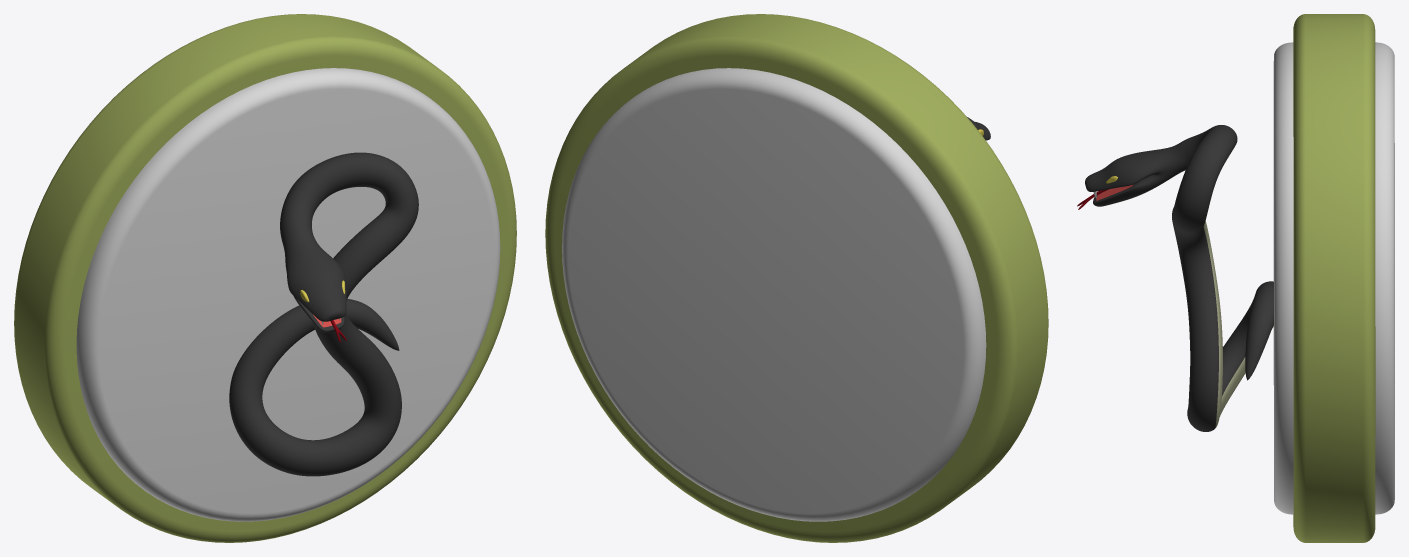
File: snake.gltf
3 views of the same model, side by side, from view 1: azimuth 30°, elevation 25°; view 2: azimuth 150°, elevation 25°; view 3: azimuth 270°, elevation 25° (orthographic). The views are drawn at different scales.
Visible parts, largest first — view 1: Cylinder_2, Cylinder.001, Cylinder; view 2: Cylinder_2, Cylinder.001; view 3: Cylinder.001, Cylinder_2, Cylinder.
Part boxes in pixels (bbox=[...]): Cylinder_2: bbox=[76, 68, 500, 521]; Cylinder.001: bbox=[14, 14, 516, 542]; Cylinder: bbox=[229, 152, 418, 476]; Cylinder_2: bbox=[562, 68, 986, 521]; Cylinder.001: bbox=[545, 14, 1048, 542]; Cylinder.001: bbox=[1293, 14, 1375, 542]; Cylinder_2: bbox=[1273, 42, 1394, 514]; Cylinder: bbox=[1085, 125, 1273, 431].
Size of the model in its own units: 2.56 by 2.56 by 1.54.
